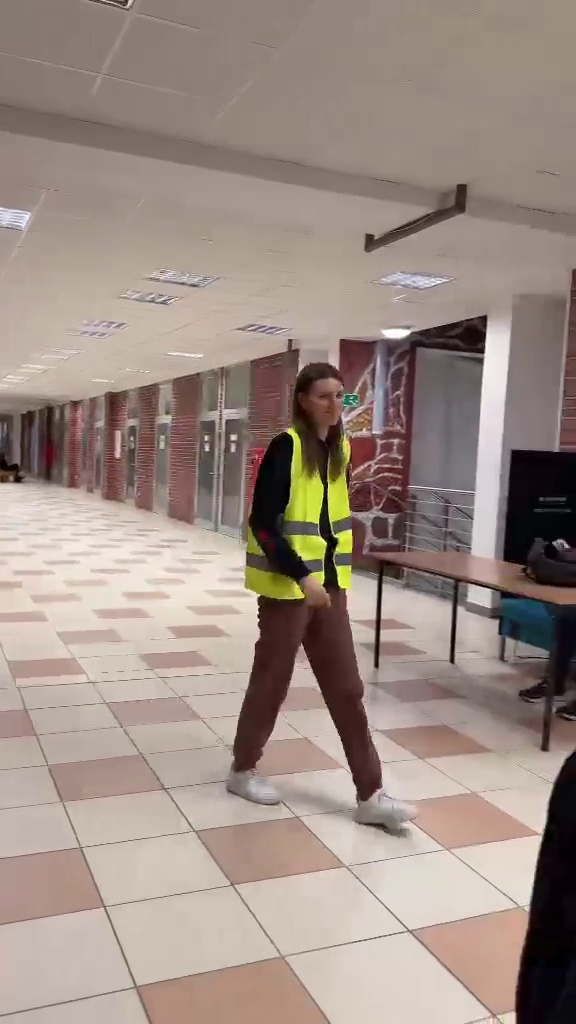vest: (227, 358, 417, 826)
